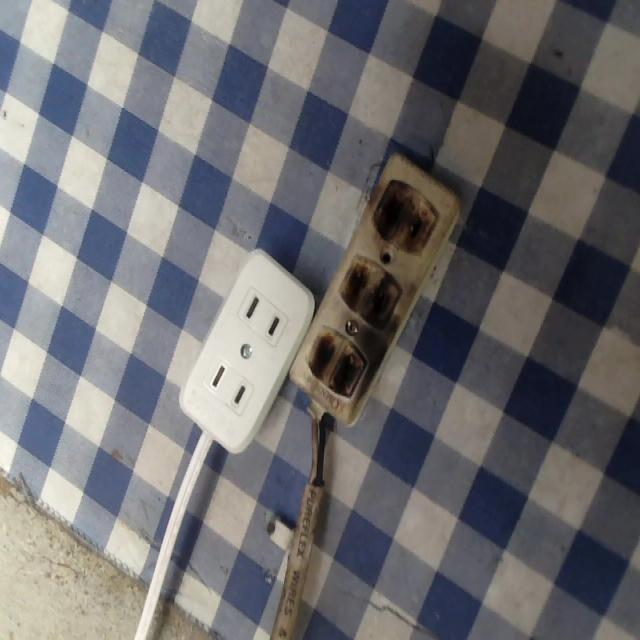-: (376, 176, 438, 267), (306, 324, 366, 407), (343, 259, 399, 333)
